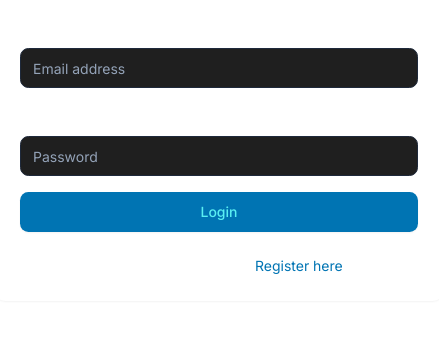
LoginForm › should display error message when login fails
// Fill form with valid data
Type "test@example.com" into the field labelled "Email" at (219, 68), box [20,48,418,88]
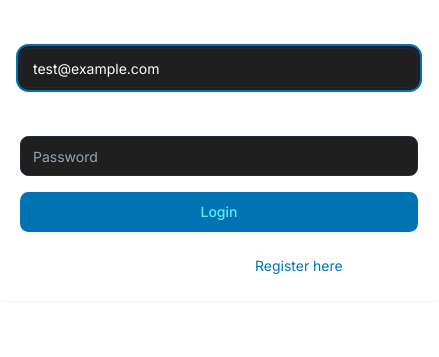
Type "wrong-password" into the password field labelled "Password" at (219, 156), box [20,136,418,176]
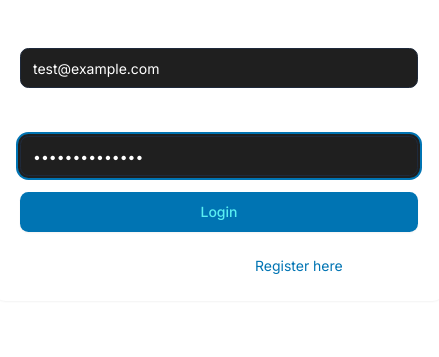
// Submit form
Click the button "Login" at (219, 212), box [20,192,418,232]
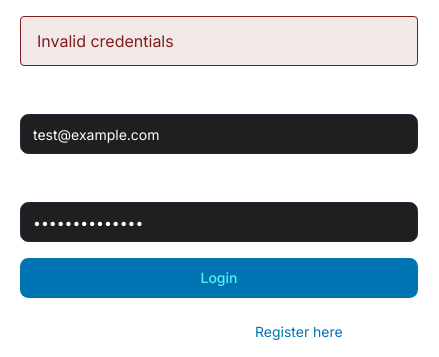
expect the text "Invalid credentials" is shown: met, box [20,16,418,66]
